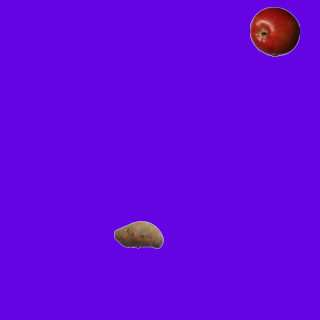Apple Braeburn: (249, 6, 299, 56)
Potato Sweet: (113, 209, 163, 259)
